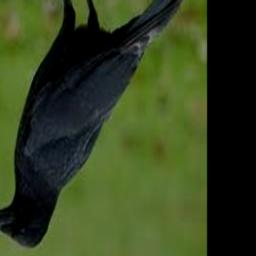Crow: (0, 0, 191, 249)
